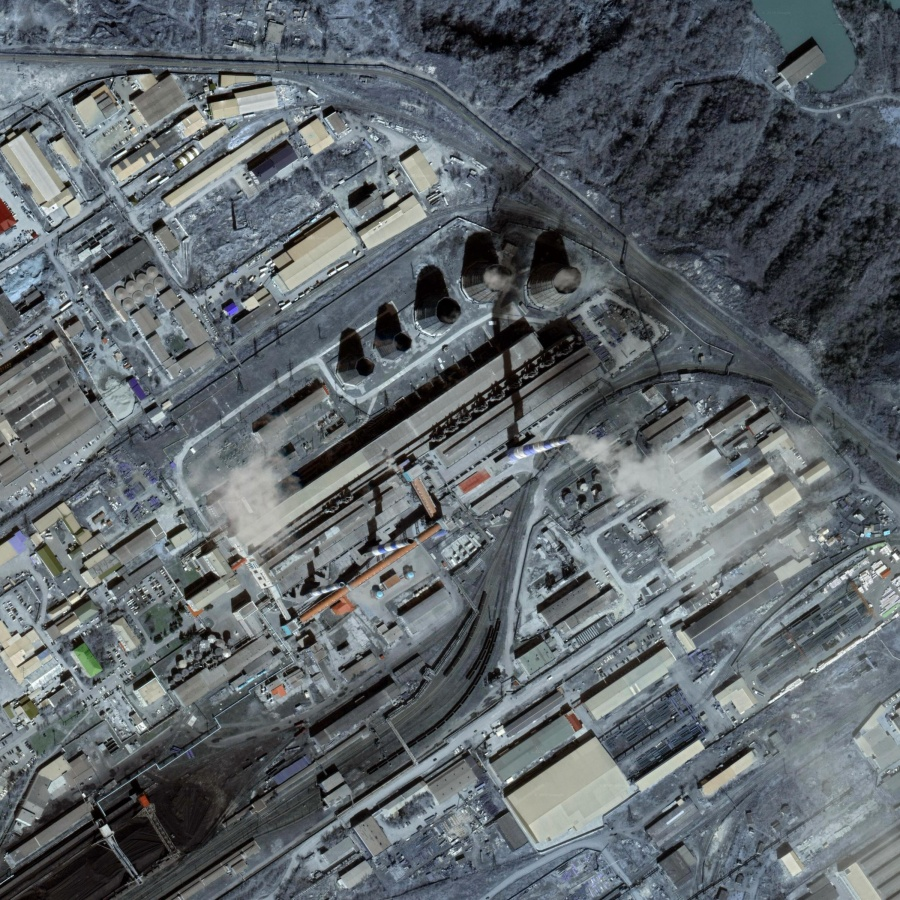PowerPlant: (238, 208, 685, 578)
